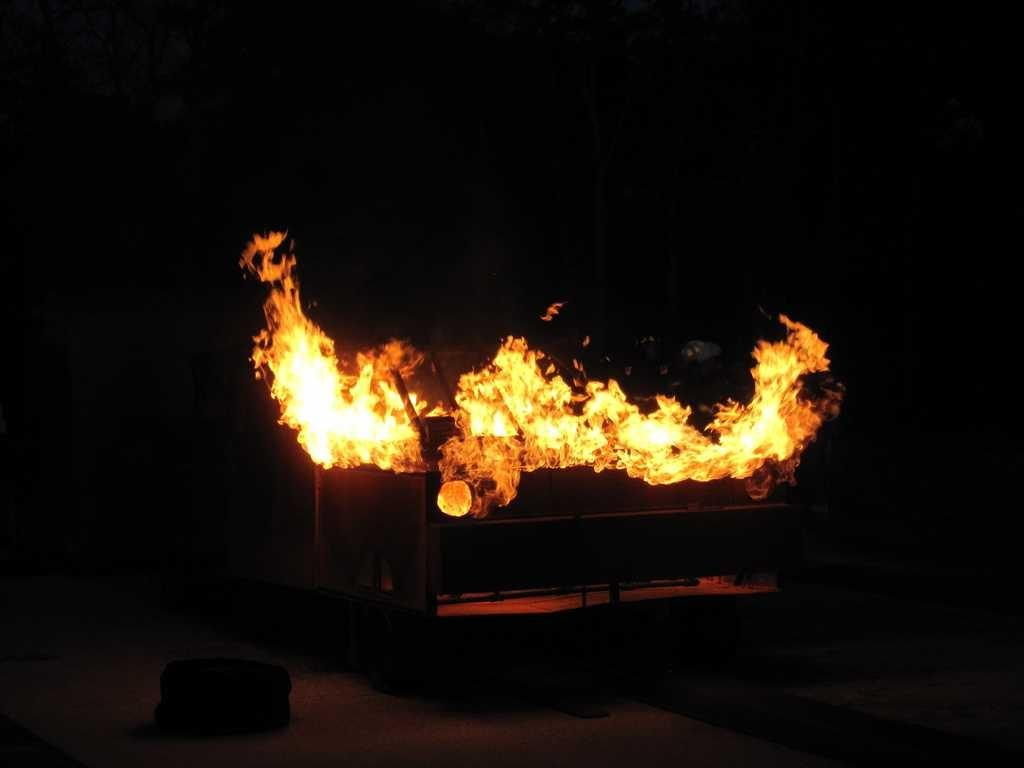fire: (460, 378, 608, 464), (276, 334, 338, 426), (354, 388, 400, 460)
